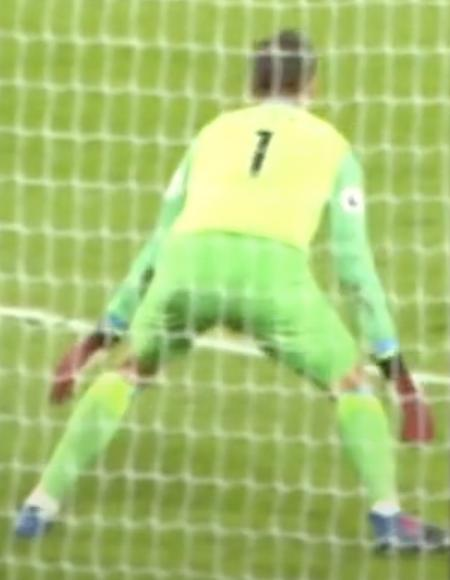goalkeeper: (9, 9, 450, 580)
